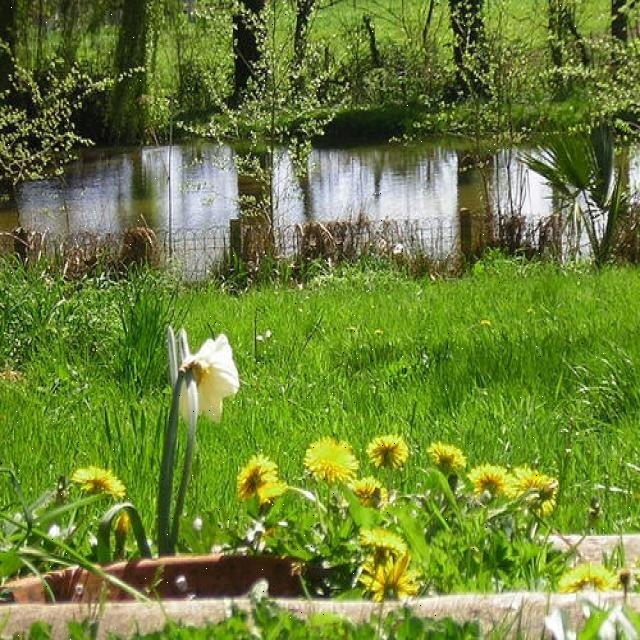Bloomed: (167, 325, 240, 424)
